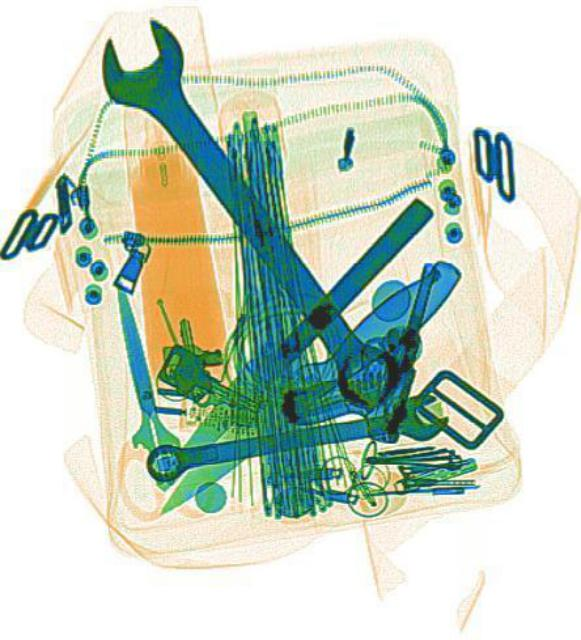Gun: (276, 235, 441, 448)
Knife: (141, 248, 474, 530), (139, 185, 436, 500), (97, 274, 178, 463)
Wrench: (77, 1, 420, 425), (139, 387, 452, 483)
